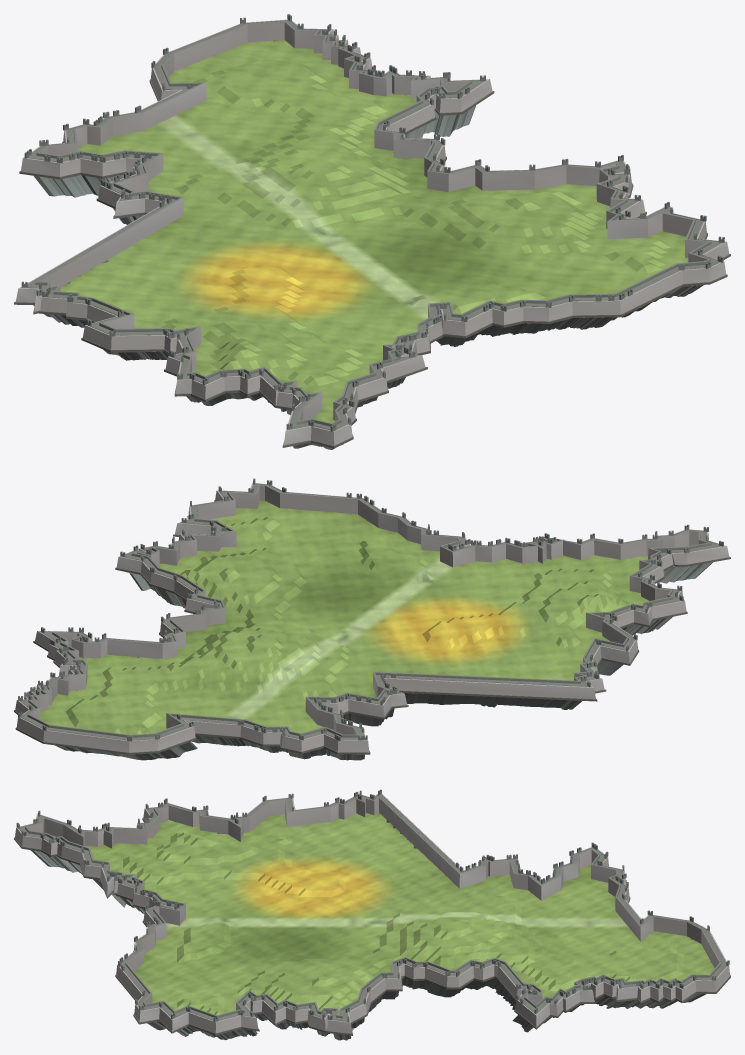
The picture shows the model from 3 angles, top to bottom: view 1: azimuth 30°, elevation 25°; view 2: azimuth 150°, elevation 25°; view 3: azimuth 270°, elevation 25°; orthographic projection. The views are drawn at different scales.
Parts seen in each view (by area): view 1: ground_6170aac5; view 2: ground_6170aac5; view 3: ground_6170aac5.
Part boxes in pixels (x1,y1,x2,y2): ground_6170aac5: (14, 14, 730, 449); ground_6170aac5: (14, 478, 730, 760); ground_6170aac5: (14, 789, 730, 1040).
Bounding box in the file's own units: 123 × 7.6 × 159.
Materials: 3 (1 with a texture image).
